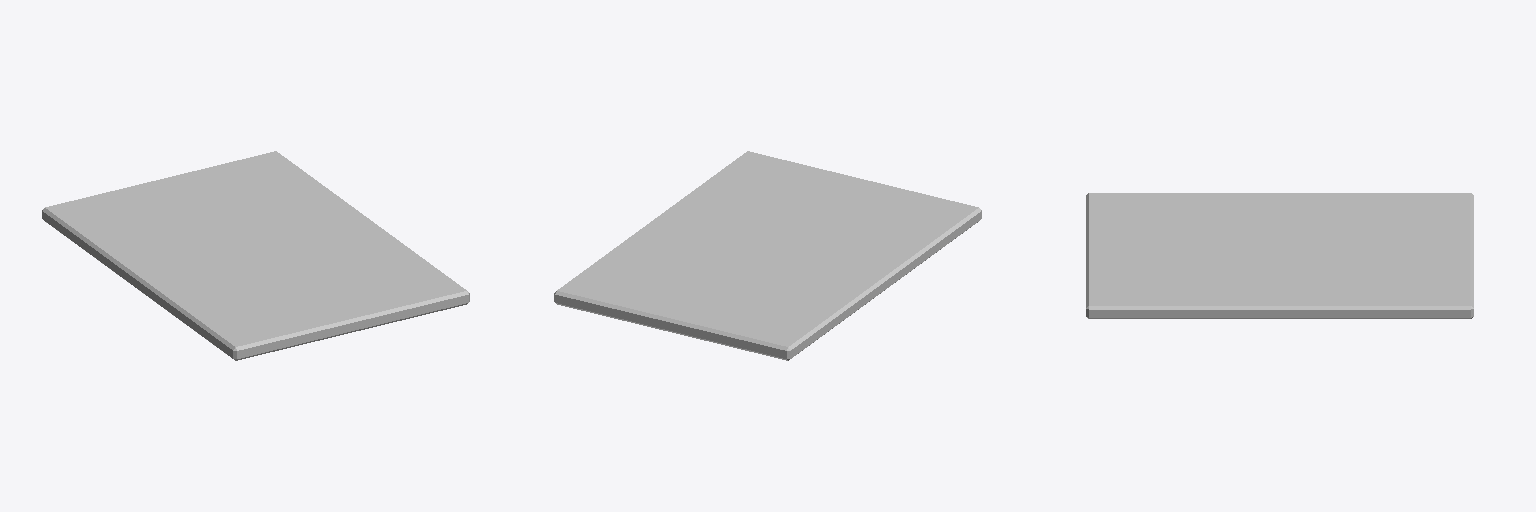
The model's file is doormat.obj.
3 views of the same model, side by side, from view 1: azimuth 30°, elevation 25°; view 2: azimuth 150°, elevation 25°; view 3: azimuth 270°, elevation 25° (orthographic).
Visible parts, largest first — view 1: Doormat; view 2: Doormat; view 3: Doormat.
Part boxes in pixels (left/top/right/bottom): Doormat: left=42, top=151, right=469, bottom=360; Doormat: left=554, top=151, right=981, bottom=360; Doormat: left=1086, top=193, right=1473, bottom=318.
Bounding box in the file's own units: 35.9 × 2 × 50.9.